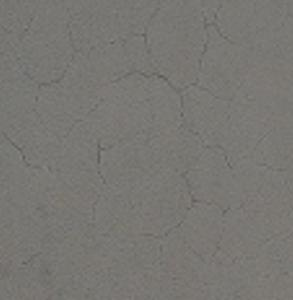retracao: (0, 0, 286, 263)
